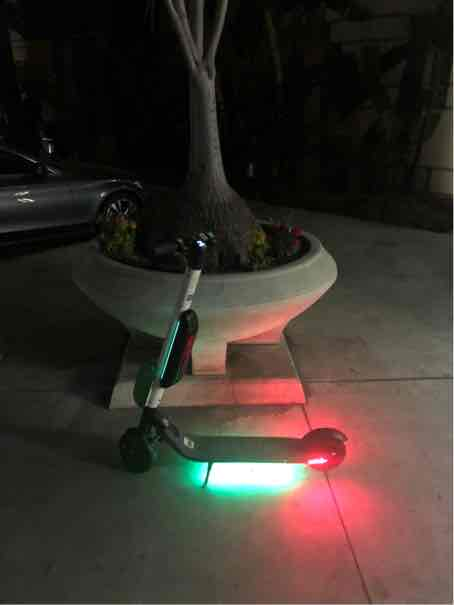scooter: (104, 215, 367, 493)
